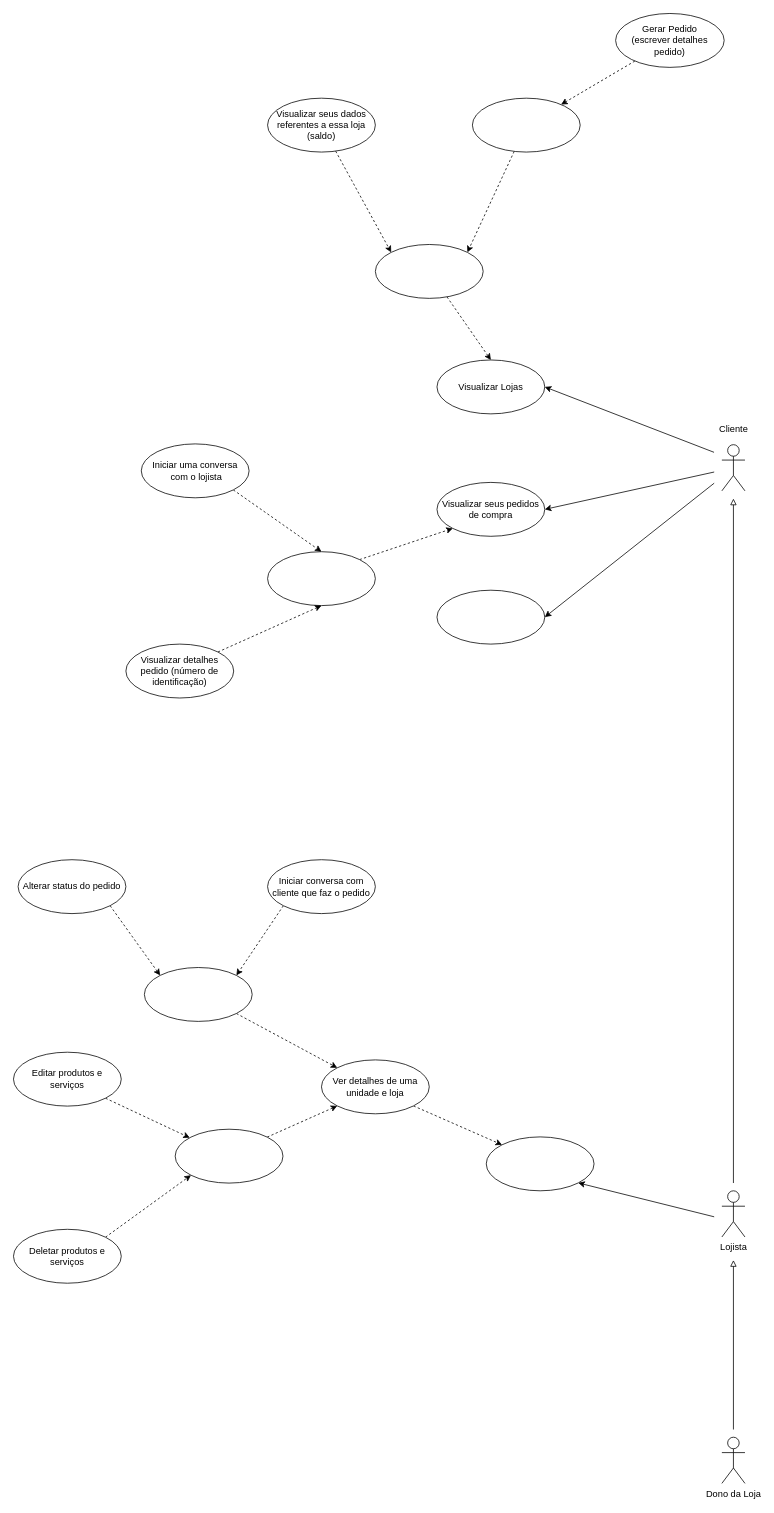
Image size: 774x1513. Some labels were removed from this diagram. Each missing label, with the box of its shape:
Ver pedidos desse loja: (144, 967, 252, 1021)
Ver produtos e serviços dessa loja: (174, 1128, 283, 1183)
Ver suas unidades de lojas: (485, 1136, 594, 1191)
Visualizar conversas: (436, 589, 545, 644)
Visualizar detalhes de uma Loja: (375, 244, 483, 298)
Visualizar um pedido de compra: (267, 551, 375, 606)
Visualizar vendas (Produtos e Serviços) de uma loja: (472, 97, 580, 152)
